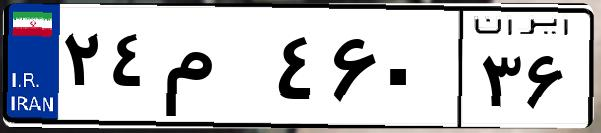0: (385, 28, 445, 110)
2: (57, 26, 110, 100)
3: (475, 38, 525, 113)
4: (270, 28, 330, 110), (110, 28, 158, 98)
6: (330, 28, 385, 110), (525, 38, 570, 115)
م: (158, 20, 270, 120)
